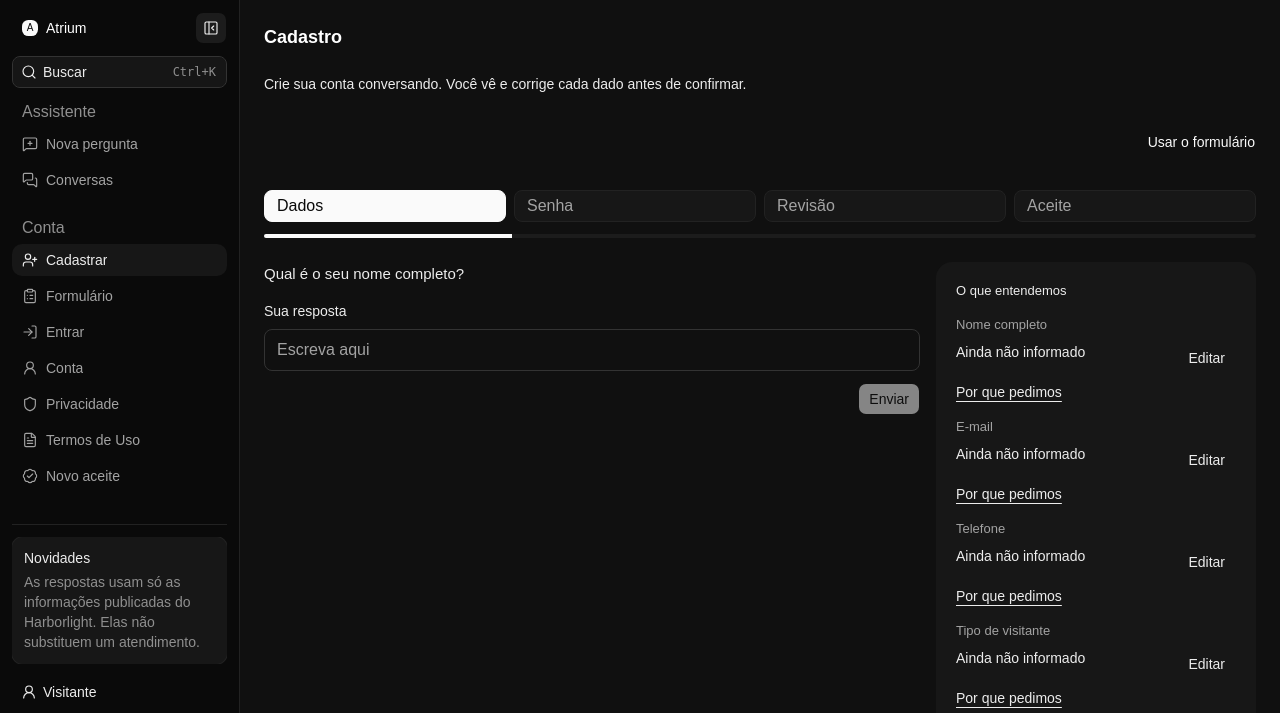
Test: telas do cadastro › com o modelo indisponível, o chat abre o formulário
This screenshot has width=1280, height=713.
Type "Ana" into the text box labelled "Sua resposta" at (592, 350), box [264, 329, 920, 371]
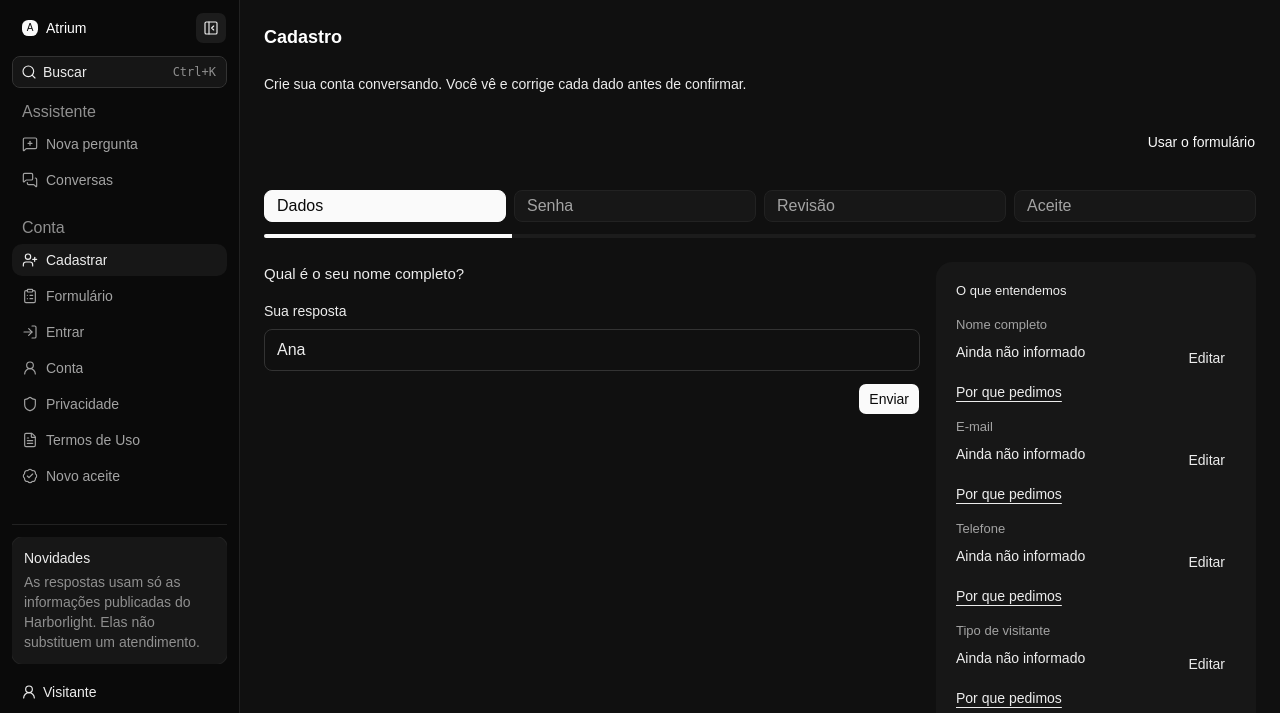
Click the button "Enviar" at (889, 399), box [858, 383, 920, 415]
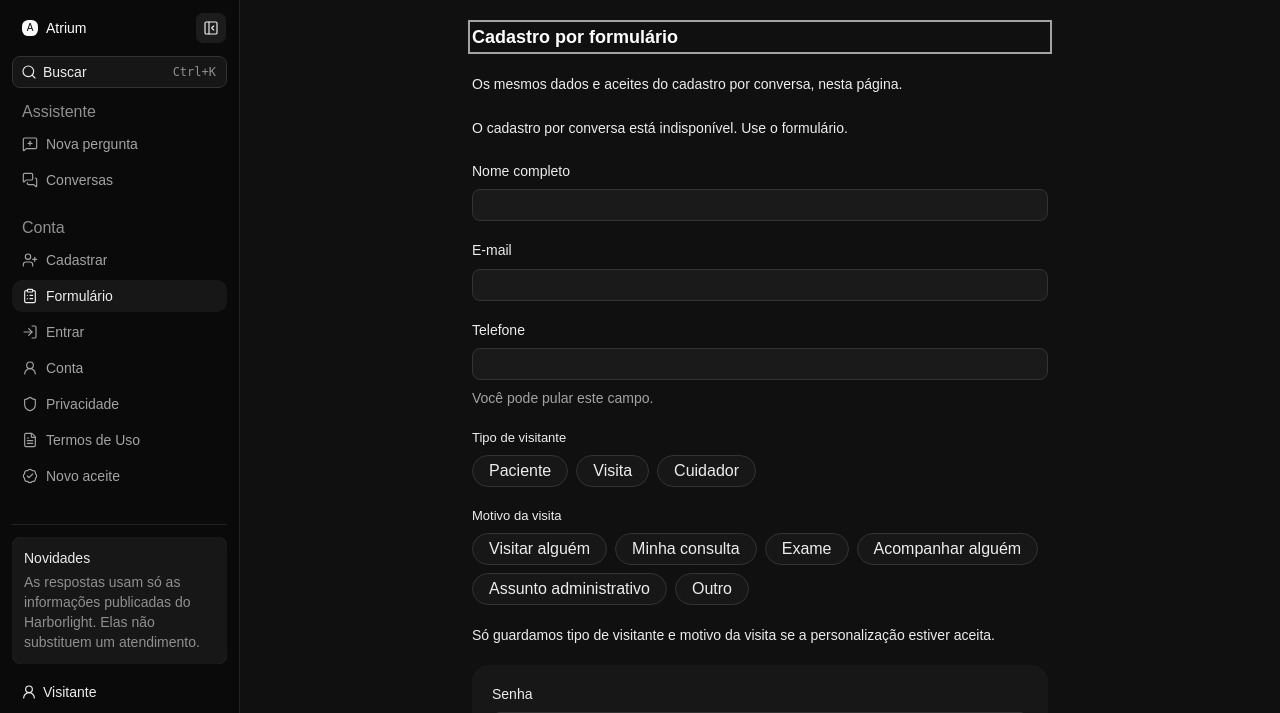
Expected: the heading "Cadastro por formulário" is shown, [472, 27, 678, 47]
Expected: the text "O cadastro por conversa está indisponível. Use o formulário." is shown, [472, 120, 848, 136]
